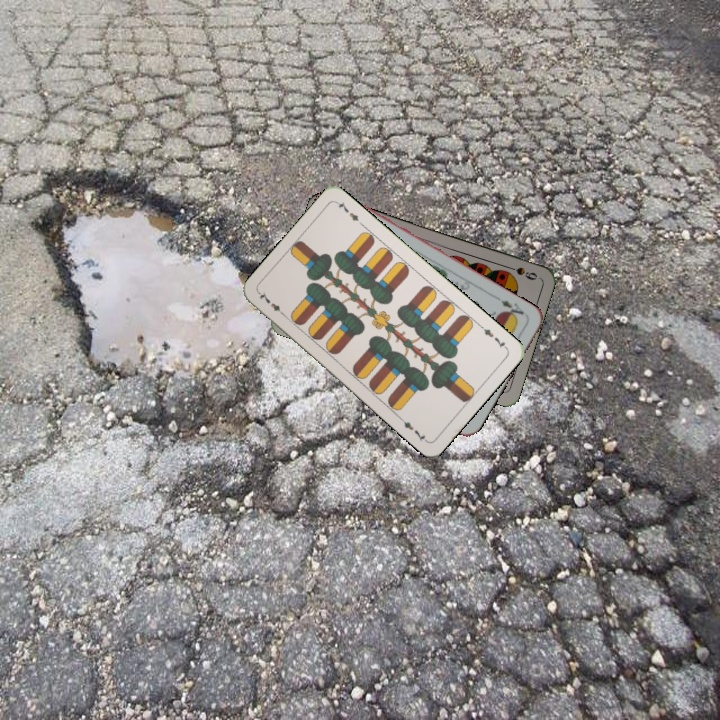E7: (476, 321, 510, 352), (255, 289, 288, 320)
EA: (492, 293, 527, 322)
S9: (501, 261, 540, 283)
